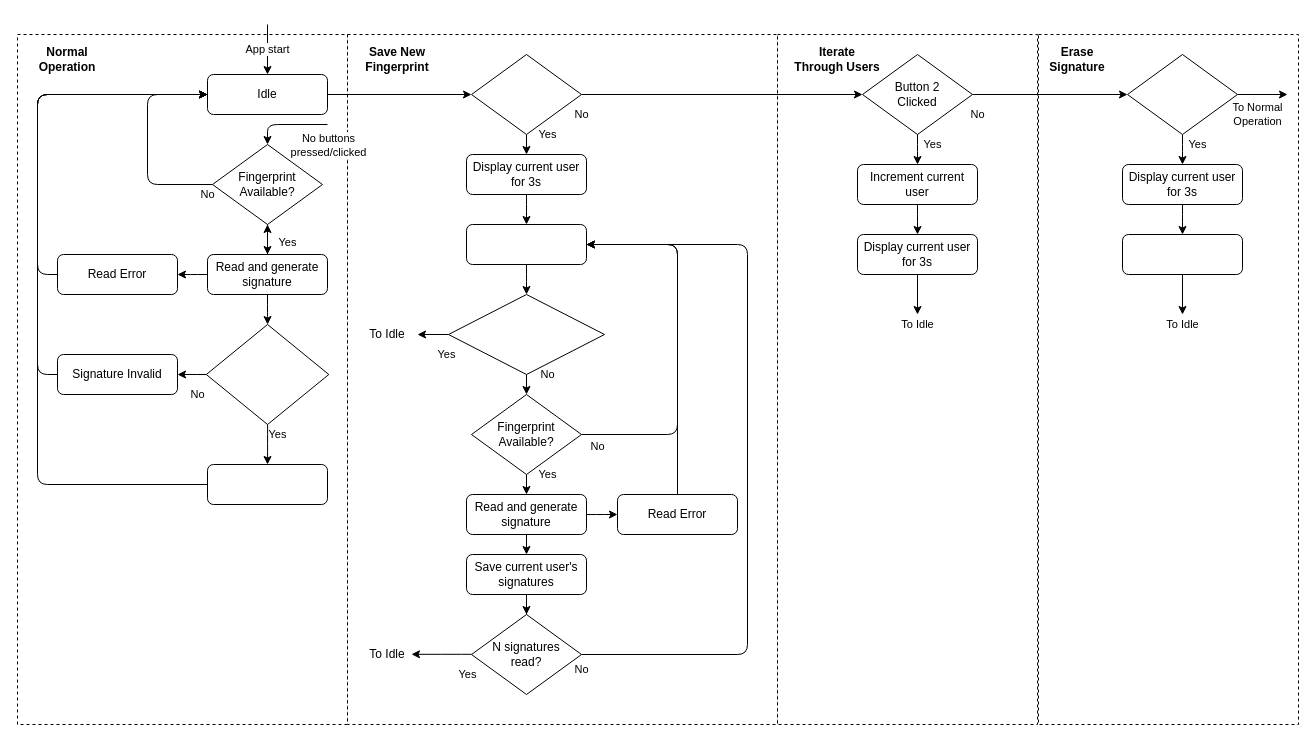
Some shapes in this 1316 by 742 pixel diagram are drawn without their labels. Each missing label, with the centre of its shape:
Button 1 Pressed 2-4s: the point at 526,94
Button 2 Pressed 4-6s: the point at 1182,94
Display detected user for 3s: the point at 267,484
Erase current user's signatures: the point at 1182,254
Has 6-8s elapsed since fingerprint detected?: the point at 526,334
Place finger: the point at 526,244
Signature found in database?: the point at 267,374
